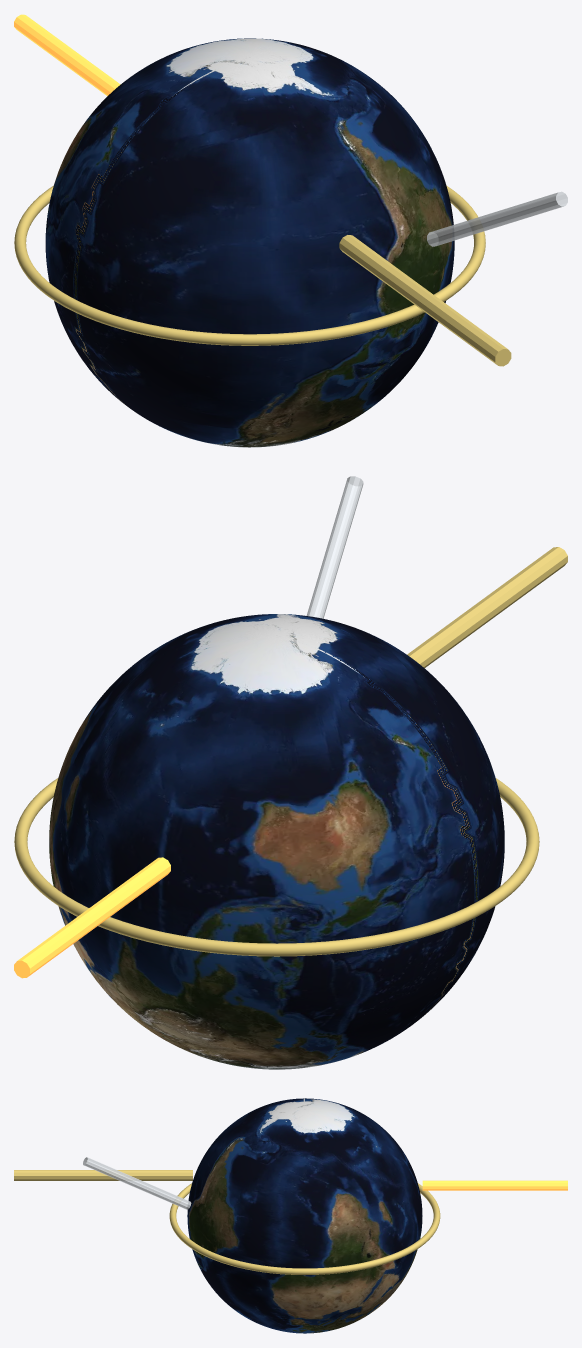
File: energy-budget.glb
3 renders of one model, top to bottom at view 1: azimuth 30°, elevation 25°; view 2: azimuth 150°, elevation 25°; view 3: azimuth 270°, elevation 25°, orthographic. The views are drawn at different scales.
Visible parts, largest first — view 1: Budget_Earth, Budget_Greenhouse, Budget_Shortwave, Budget_Albedo, Budget_Longwave; view 2: Budget_Earth, Budget_Greenhouse, Budget_Shortwave, Budget_Longwave, Budget_Albedo; view 3: Budget_Earth, Budget_Greenhouse, Budget_Shortwave, Budget_Longwave, Budget_Albedo.
Part boxes in pixels (x1=…): Budget_Earth: x1=45, y1=38, x2=454, y2=447; Budget_Greenhouse: x1=14, y1=185, x2=485, y2=345; Budget_Shortwave: x1=339, y1=235, x2=511, y2=366; Budget_Albedo: x1=427, y1=191, x2=567, y2=246; Budget_Longwave: x1=14, y1=14, x2=120, y2=95; Budget_Earth: x1=49, y1=614, x2=504, y2=1069; Budget_Greenhouse: x1=14, y1=778, x2=539, y2=956; Budget_Shortwave: x1=407, y1=547, x2=567, y2=668; Budget_Longwave: x1=14, y1=857, x2=170, y2=978; Budget_Albedo: x1=306, y1=476, x2=363, y2=618; Budget_Earth: x1=187, y1=1098, x2=422, y2=1333; Budget_Greenhouse: x1=169, y1=1183, x2=440, y2=1274; Budget_Shortwave: x1=14, y1=1170, x2=192, y2=1180; Budget_Longwave: x1=422, y1=1180, x2=567, y2=1190; Budget_Albedo: x1=83, y1=1157, x2=191, y2=1209.
Size of the model in its own units: 2.42 by 2.1 by 4.95.
4 materials, 1 textured.
